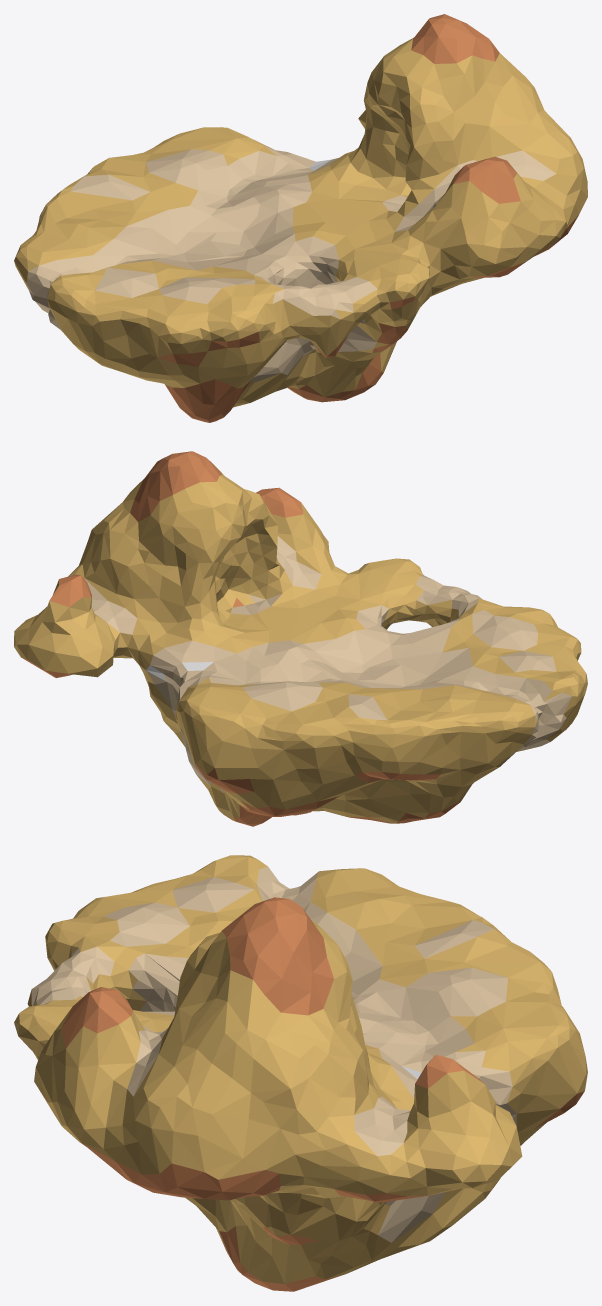
File: S_Island.fbx
3 views of the same model, one above another, from view 1: azimuth 30°, elevation 25°; view 2: azimuth 150°, elevation 25°; view 3: azimuth 270°, elevation 25° (orthographic). The views are drawn at different scales.
Parts seen in each view (by area): view 1: S_Island; view 2: S_Island; view 3: S_Island.
Part boxes in pixels (x1,y1,x2,y2): S_Island: (14, 14, 587, 422); S_Island: (14, 451, 587, 826); S_Island: (14, 855, 587, 1291).
Bounding box in the file's own units: 27359 × 17861 × 20819.
